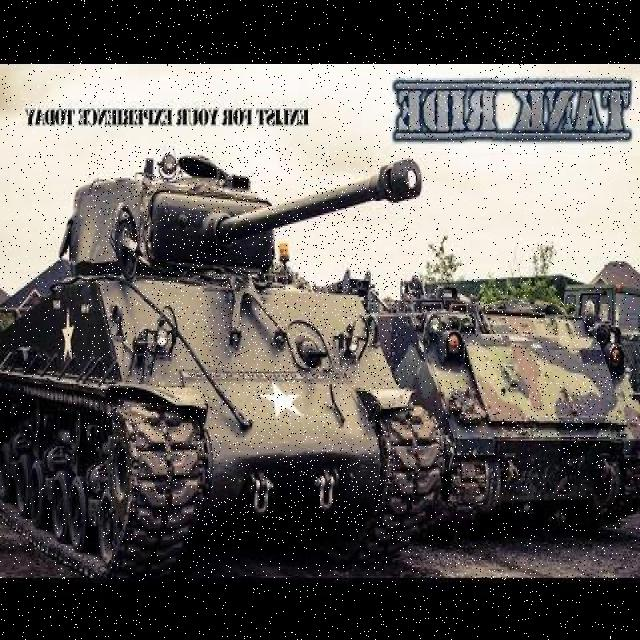MIL_MBT: (88, 145, 416, 541), (432, 304, 611, 497)
